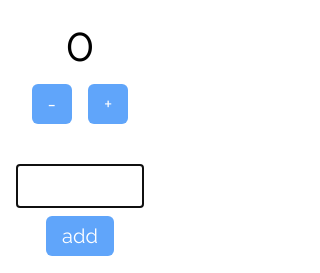
renders with redux default initialState and increments and decrements corretly
This screenshot has width=320, height=273.
Expected: the text named "count" reads "0", x1=65 y1=16 x2=95 y2=72
Click the button "+" at (108,104), box x1=88 y1=84 x2=128 y2=124
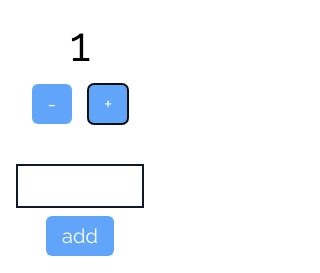
Result: the text named "count" reads "1" at x1=70 y1=16 x2=90 y2=72
Click the button "-" at (52,104), box x1=32 y1=84 x2=72 y2=124
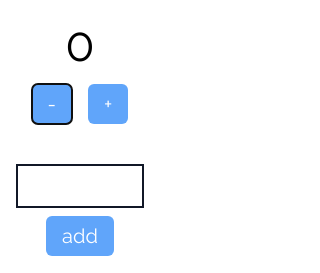
Result: the text named "count" reads "0" at x1=65 y1=16 x2=95 y2=72
